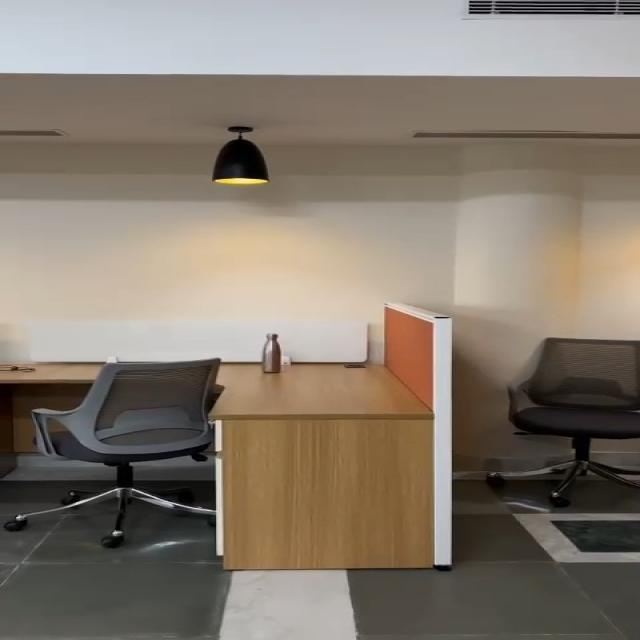floor: (3, 548, 640, 640)
furniture: (14, 340, 219, 552), (507, 325, 640, 503)
wall: (0, 53, 640, 321)
